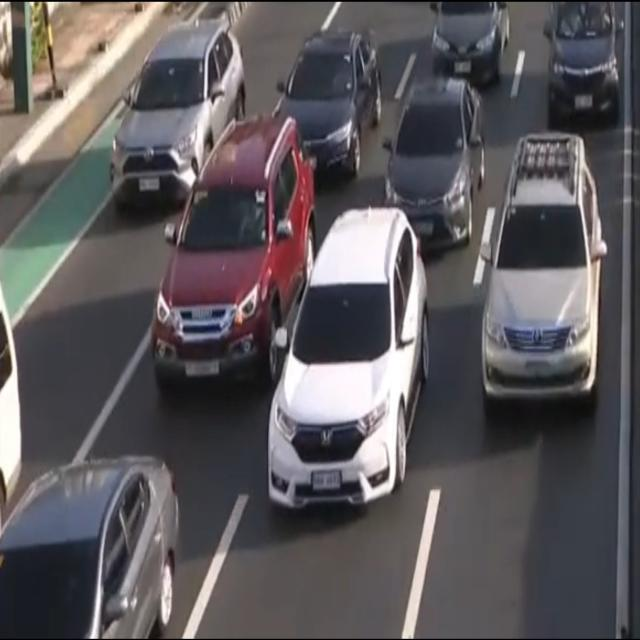SUV: (269, 209, 429, 517), (154, 116, 316, 396), (478, 130, 606, 412), (111, 24, 246, 220), (543, 0, 624, 132)
Sedan: (0, 455, 180, 640), (381, 79, 485, 255), (275, 31, 380, 180), (428, 0, 510, 84)
